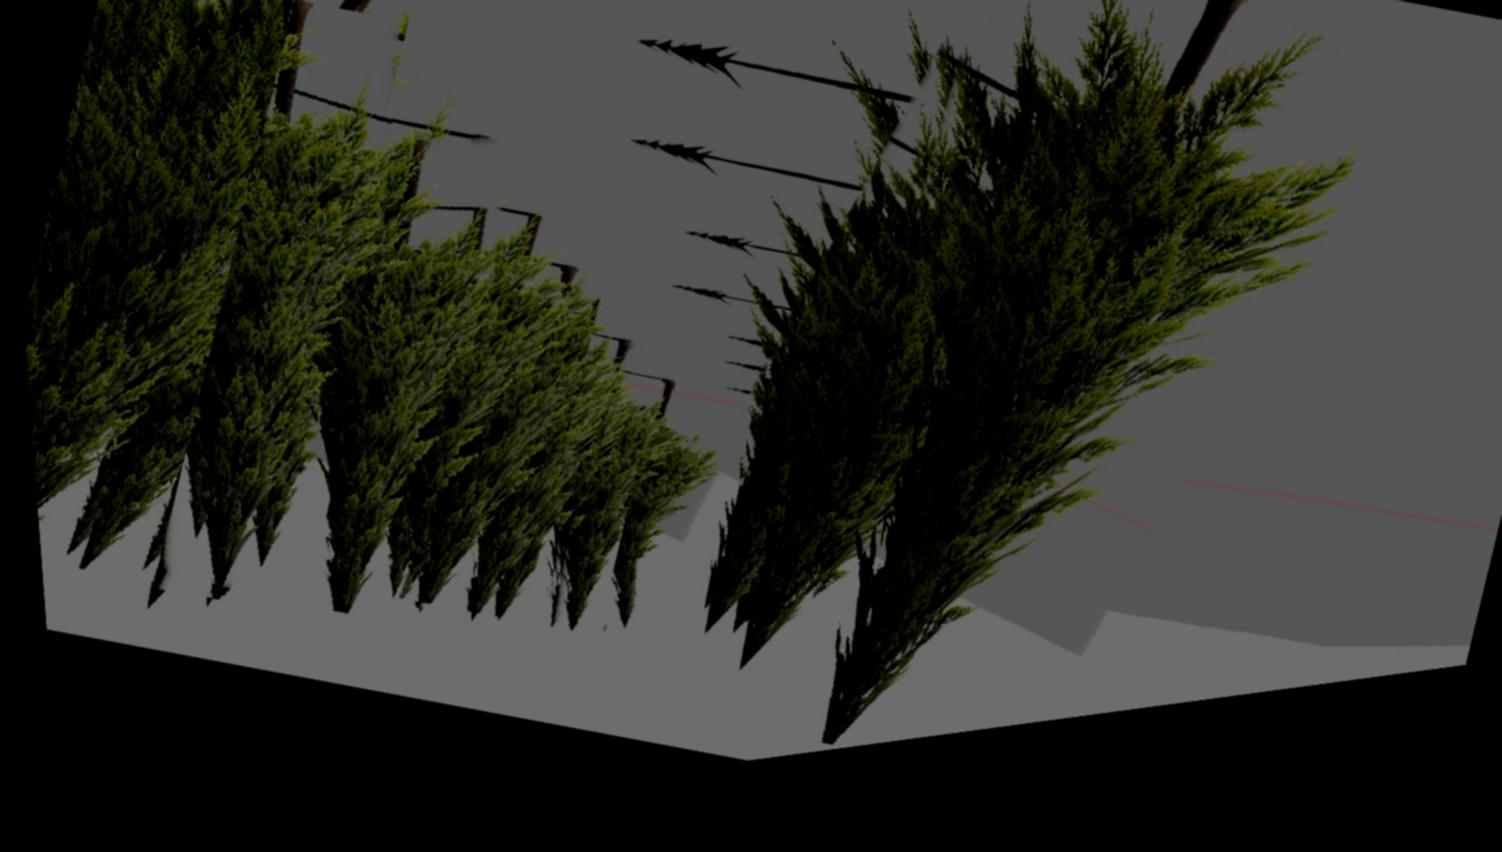tree_gazebo: (808, 7, 1349, 764), (23, 0, 413, 500), (179, 9, 396, 591), (319, 148, 499, 621), (406, 309, 589, 613), (570, 462, 711, 629), (550, 425, 643, 643), (646, 398, 665, 438), (607, 357, 625, 383), (585, 323, 591, 330)
